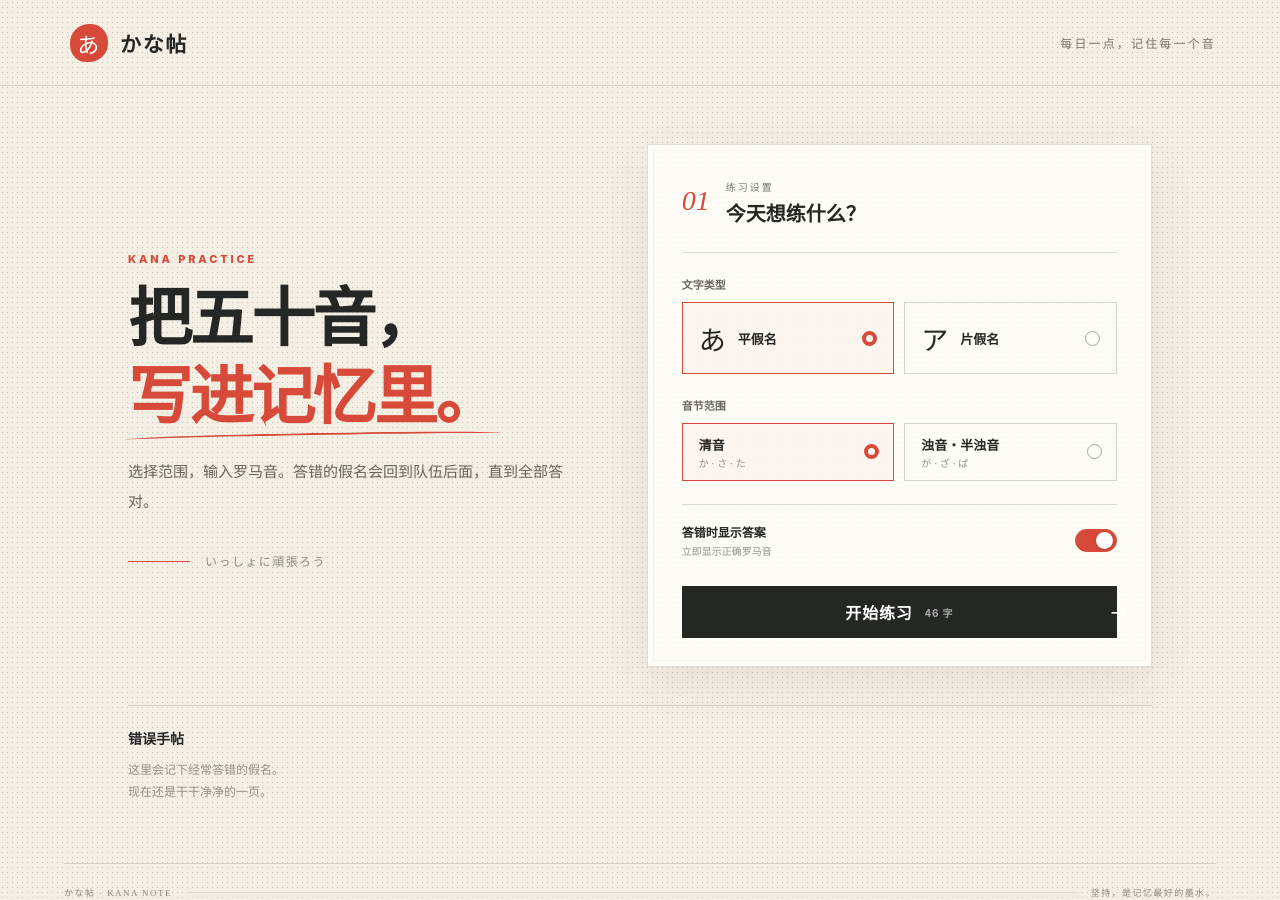
Test case: 五十音练习 › 关闭答案显示后，错误提示不会泄露正确答案
Click the switch with id "reveal-answer" at (1096, 540), box 1075,529 -> 1117,552
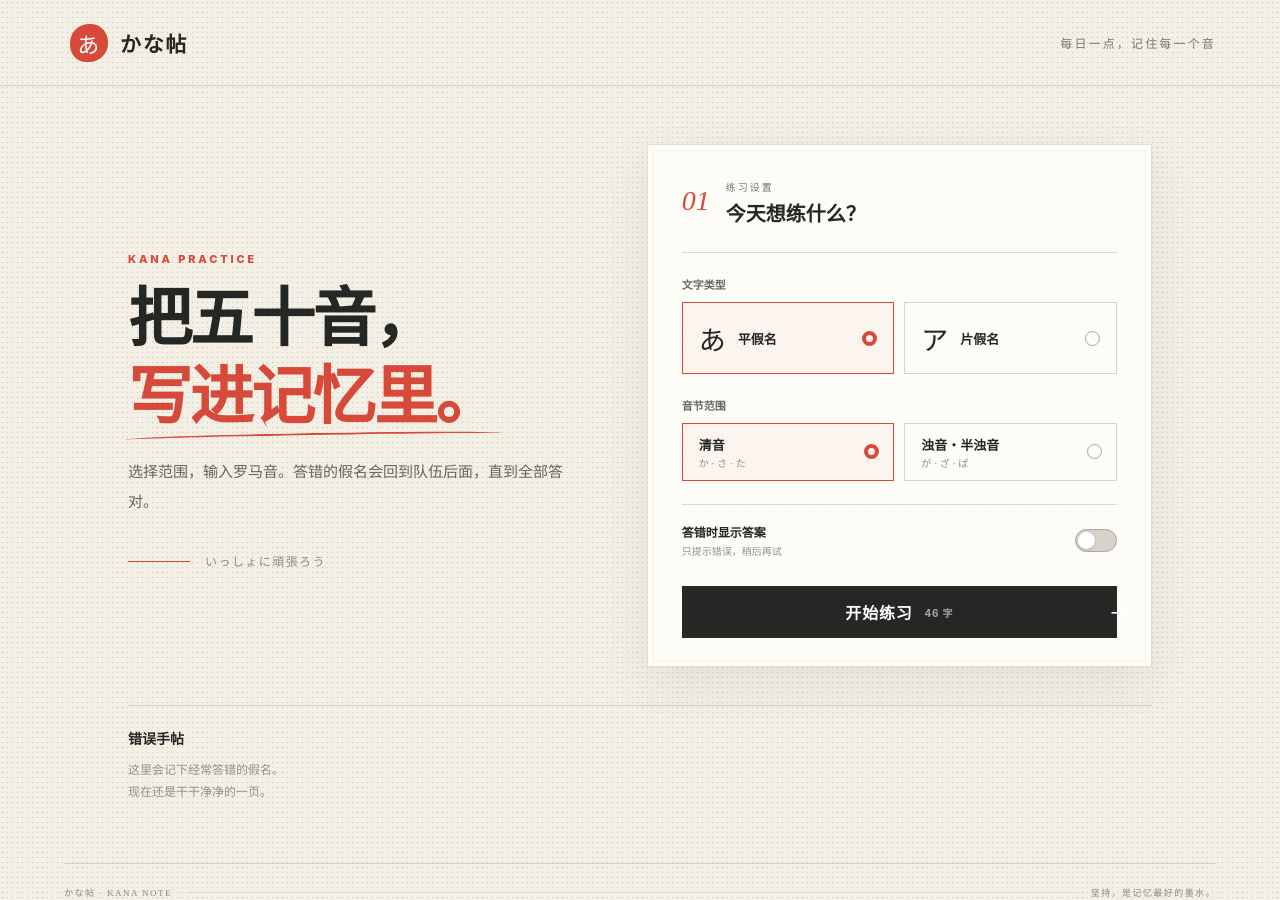
Click the button "开始练习 46 字 →" at (899, 612), box 682,586 -> 1117,638
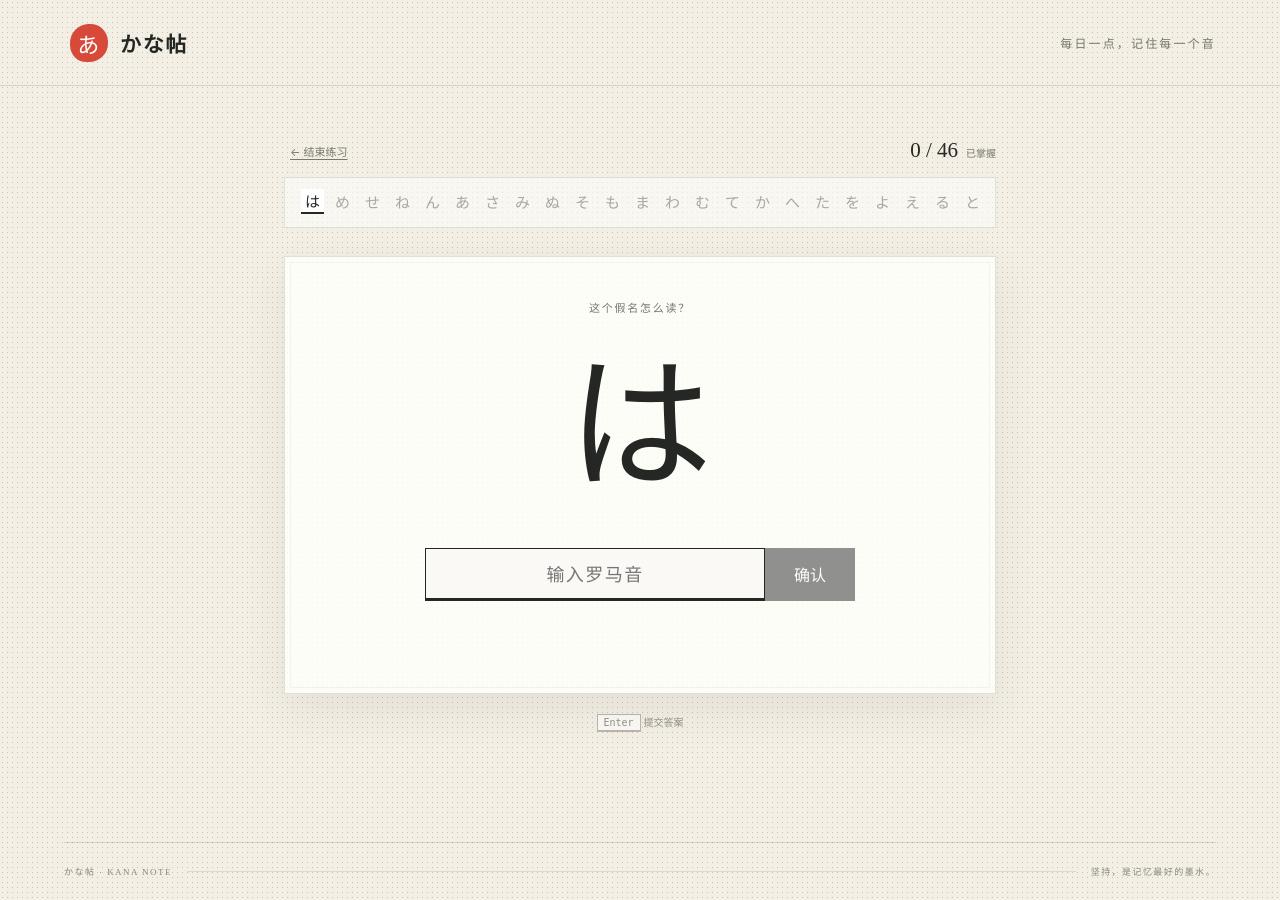
Check: the element showing "这个假名怎么读？ は 确认" is shown, box 284,256 -> 996,694
Type "definitely-wrong" into the field with placeholder "输入罗马音" at (595, 574), box 425,548 -> 765,601
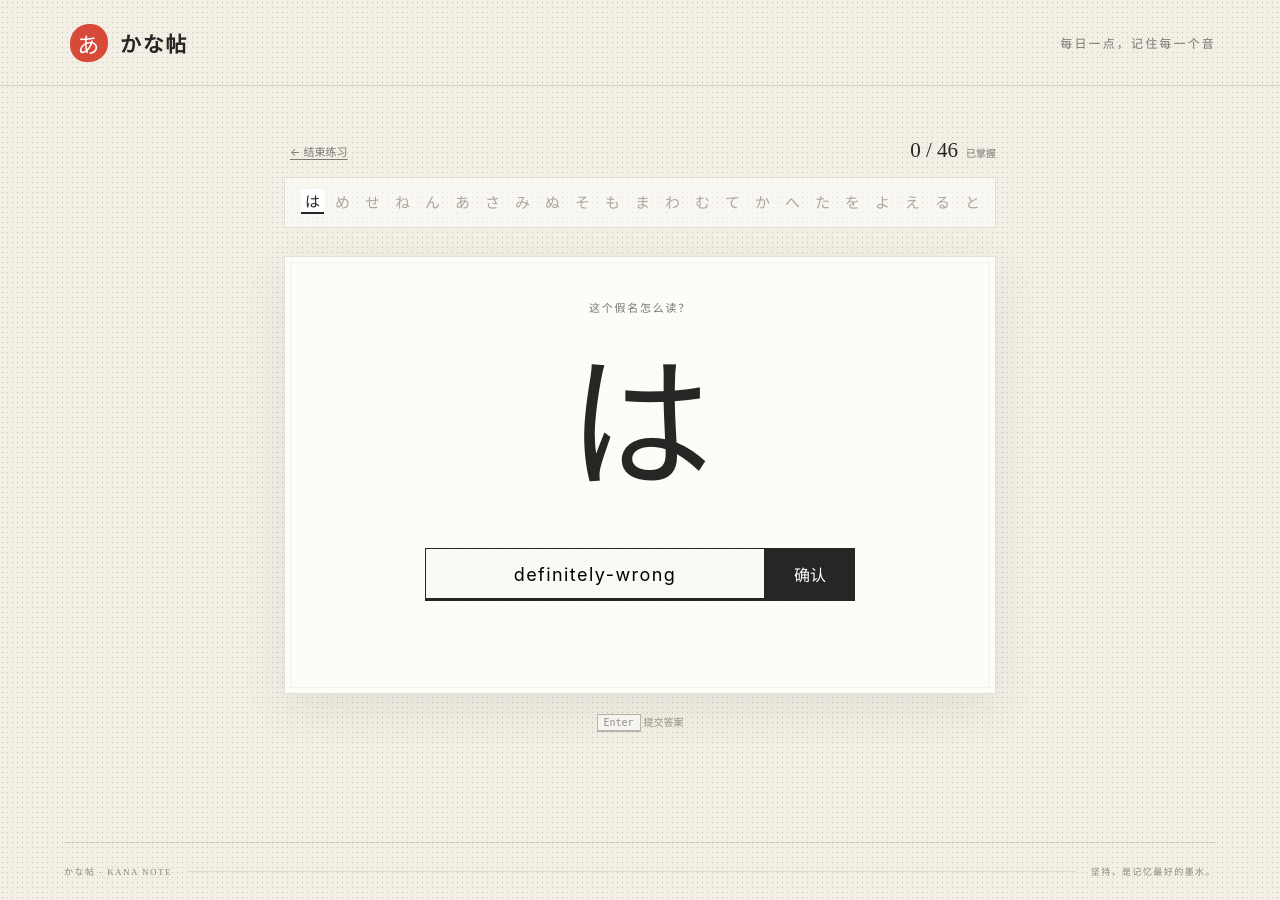
Submit the form, box 425,548 -> 855,601
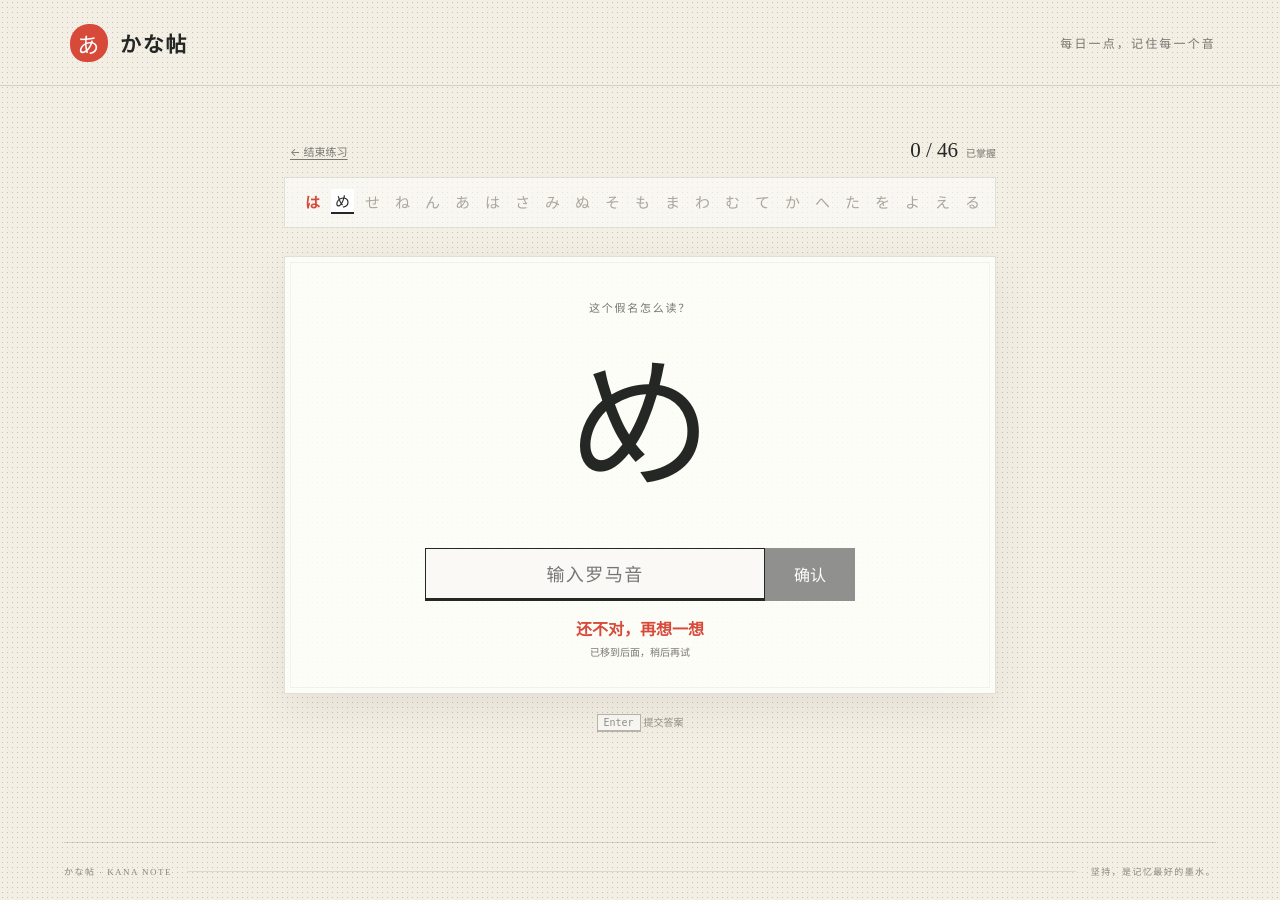
Check: the field with placeholder "输入罗马音" is empty, box 425,548 -> 765,601
Check: the element with class "feedback" shows "还不对，再想一想", box 576,621 -> 704,638
